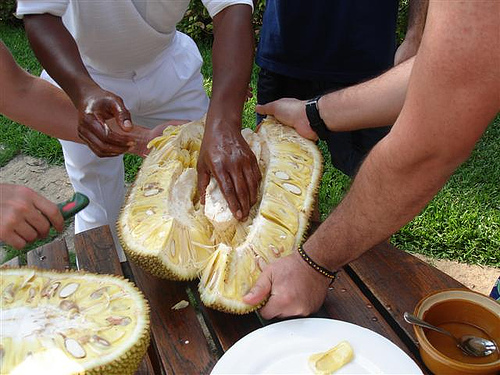jackfruit: (117, 119, 323, 321), (0, 265, 151, 374)
